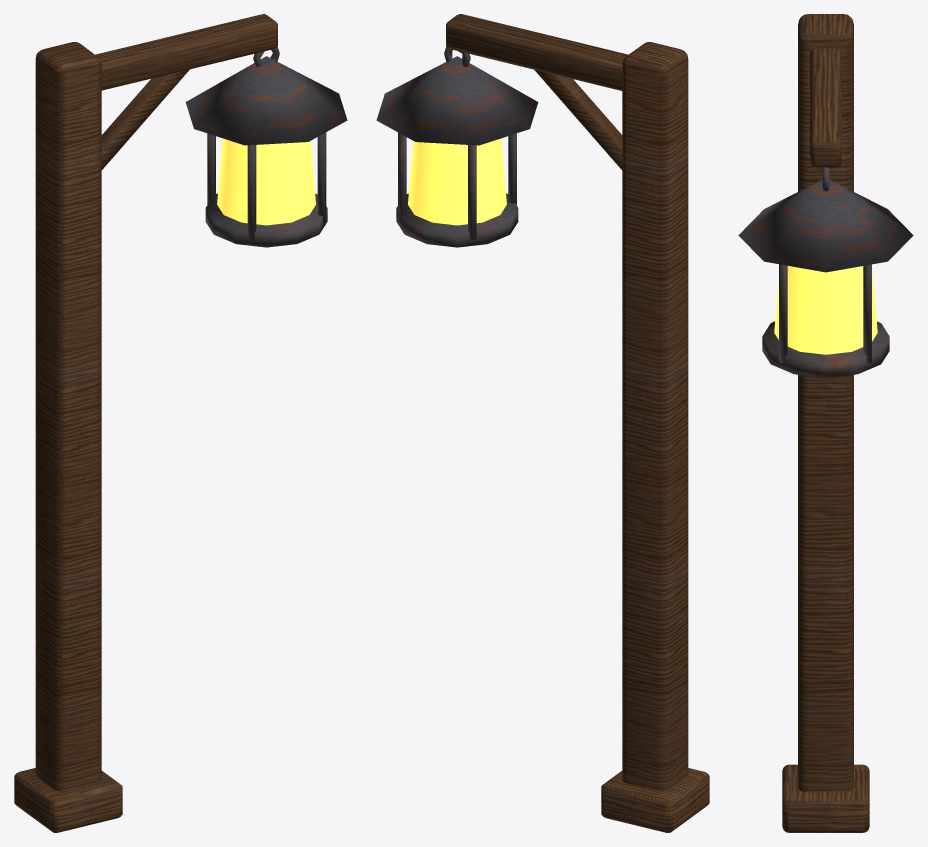
The model's file is lantern_post.glb.
The picture shows the model from 3 angles, left to right: view 1: azimuth 30°, elevation 25°; view 2: azimuth 150°, elevation 25°; view 3: azimuth 270°, elevation 25°; orthographic projection. The views are drawn at different scales.
Visible parts, largest first — view 1: lantern_post_Wood_Dark, lantern_post_Metal, lantern_post_Glow_Warm; view 2: lantern_post_Wood_Dark, lantern_post_Metal, lantern_post_Glow_Warm; view 3: lantern_post_Wood_Dark, lantern_post_Metal, lantern_post_Glow_Warm.
Part boxes in pixels (x1,y1,x2,y2): lantern_post_Wood_Dark: (14,14,277,832); lantern_post_Metal: (185,47,347,247); lantern_post_Glow_Warm: (217,138,315,225); lantern_post_Wood_Dark: (446,14,709,832); lantern_post_Metal: (376,46,538,247); lantern_post_Glow_Warm: (408,138,506,225); lantern_post_Wood_Dark: (782,14,869,832); lantern_post_Metal: (738,167,913,377); lantern_post_Glow_Warm: (774,266,877,354).
Size of the model in its own units: 0.93 by 2.2 by 0.44.
3 materials, 2 textured.
